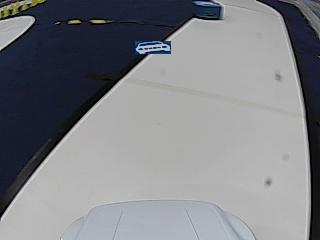prop: (195, 1, 222, 20)
